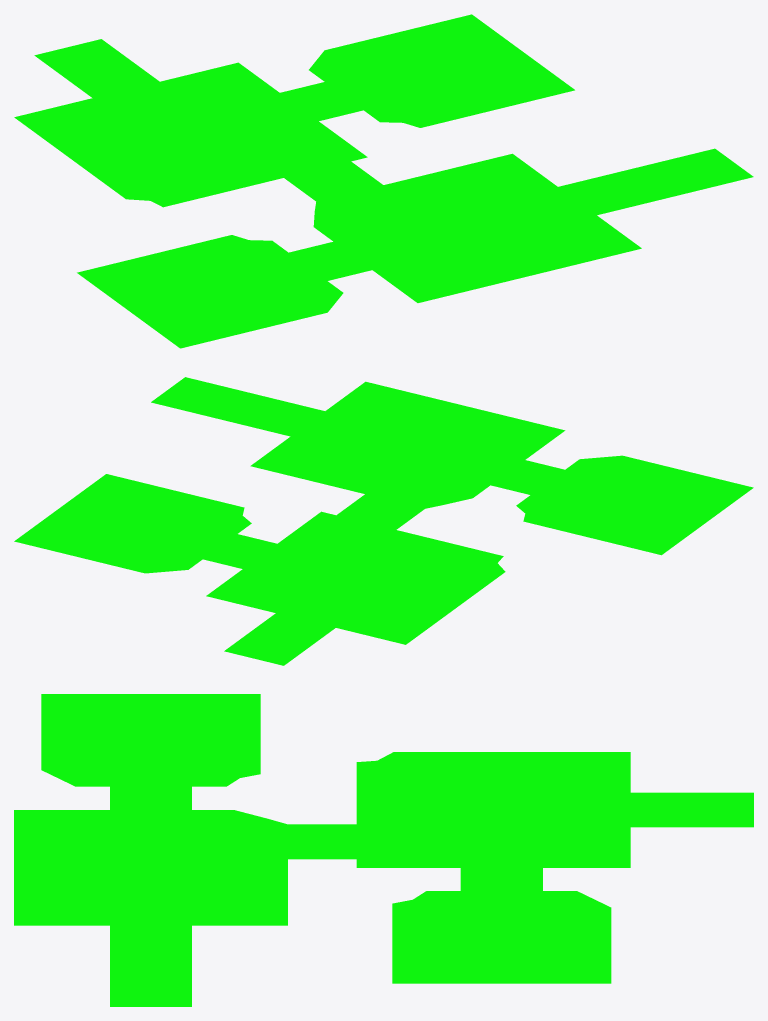
File: s04b_lc1-floor.glb
3 renders of one model, top to bottom at view 1: azimuth 30°, elevation 25°; view 2: azimuth 150°, elevation 25°; view 3: azimuth 270°, elevation 25°, orthographic. The views are drawn at different scales.
Parts seen in each view (by area): view 1: collision_floor-colonly; view 2: collision_floor-colonly; view 3: collision_floor-colonly.
Boxes of the visible parts, <box> form: collision_floor-colonly: <box>14,14,753,348</box>; collision_floor-colonly: <box>14,377,753,665</box>; collision_floor-colonly: <box>14,694,753,1006</box>.
Bounding box in the file's own units: 54 × 0 × 54.
